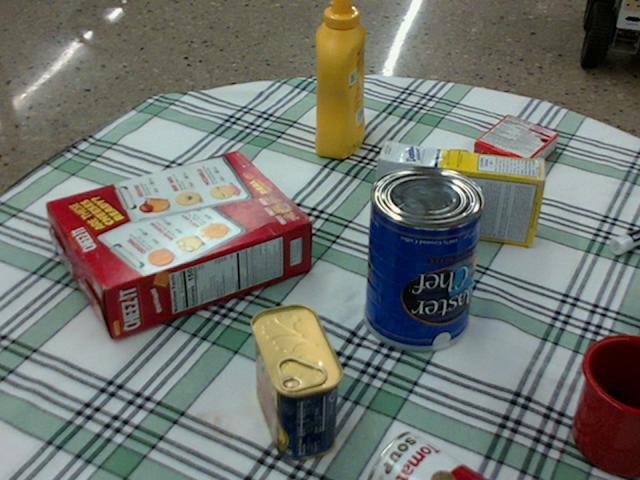cracker_box: (46, 152, 307, 338)
gelatin_box: (471, 115, 557, 179)
large_marker: (608, 227, 639, 253)
master_chef_can: (364, 165, 486, 350)
mug: (570, 334, 639, 476)
mustard_bottle: (314, 0, 365, 157)
potted_meat_can: (250, 304, 343, 459)
sugar_box: (372, 142, 545, 246)
tomato_soup_can: (369, 432, 485, 479)
